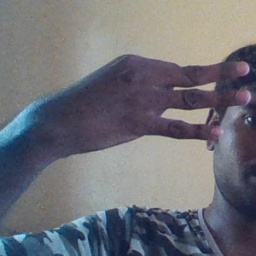K: (65, 55, 253, 146)
